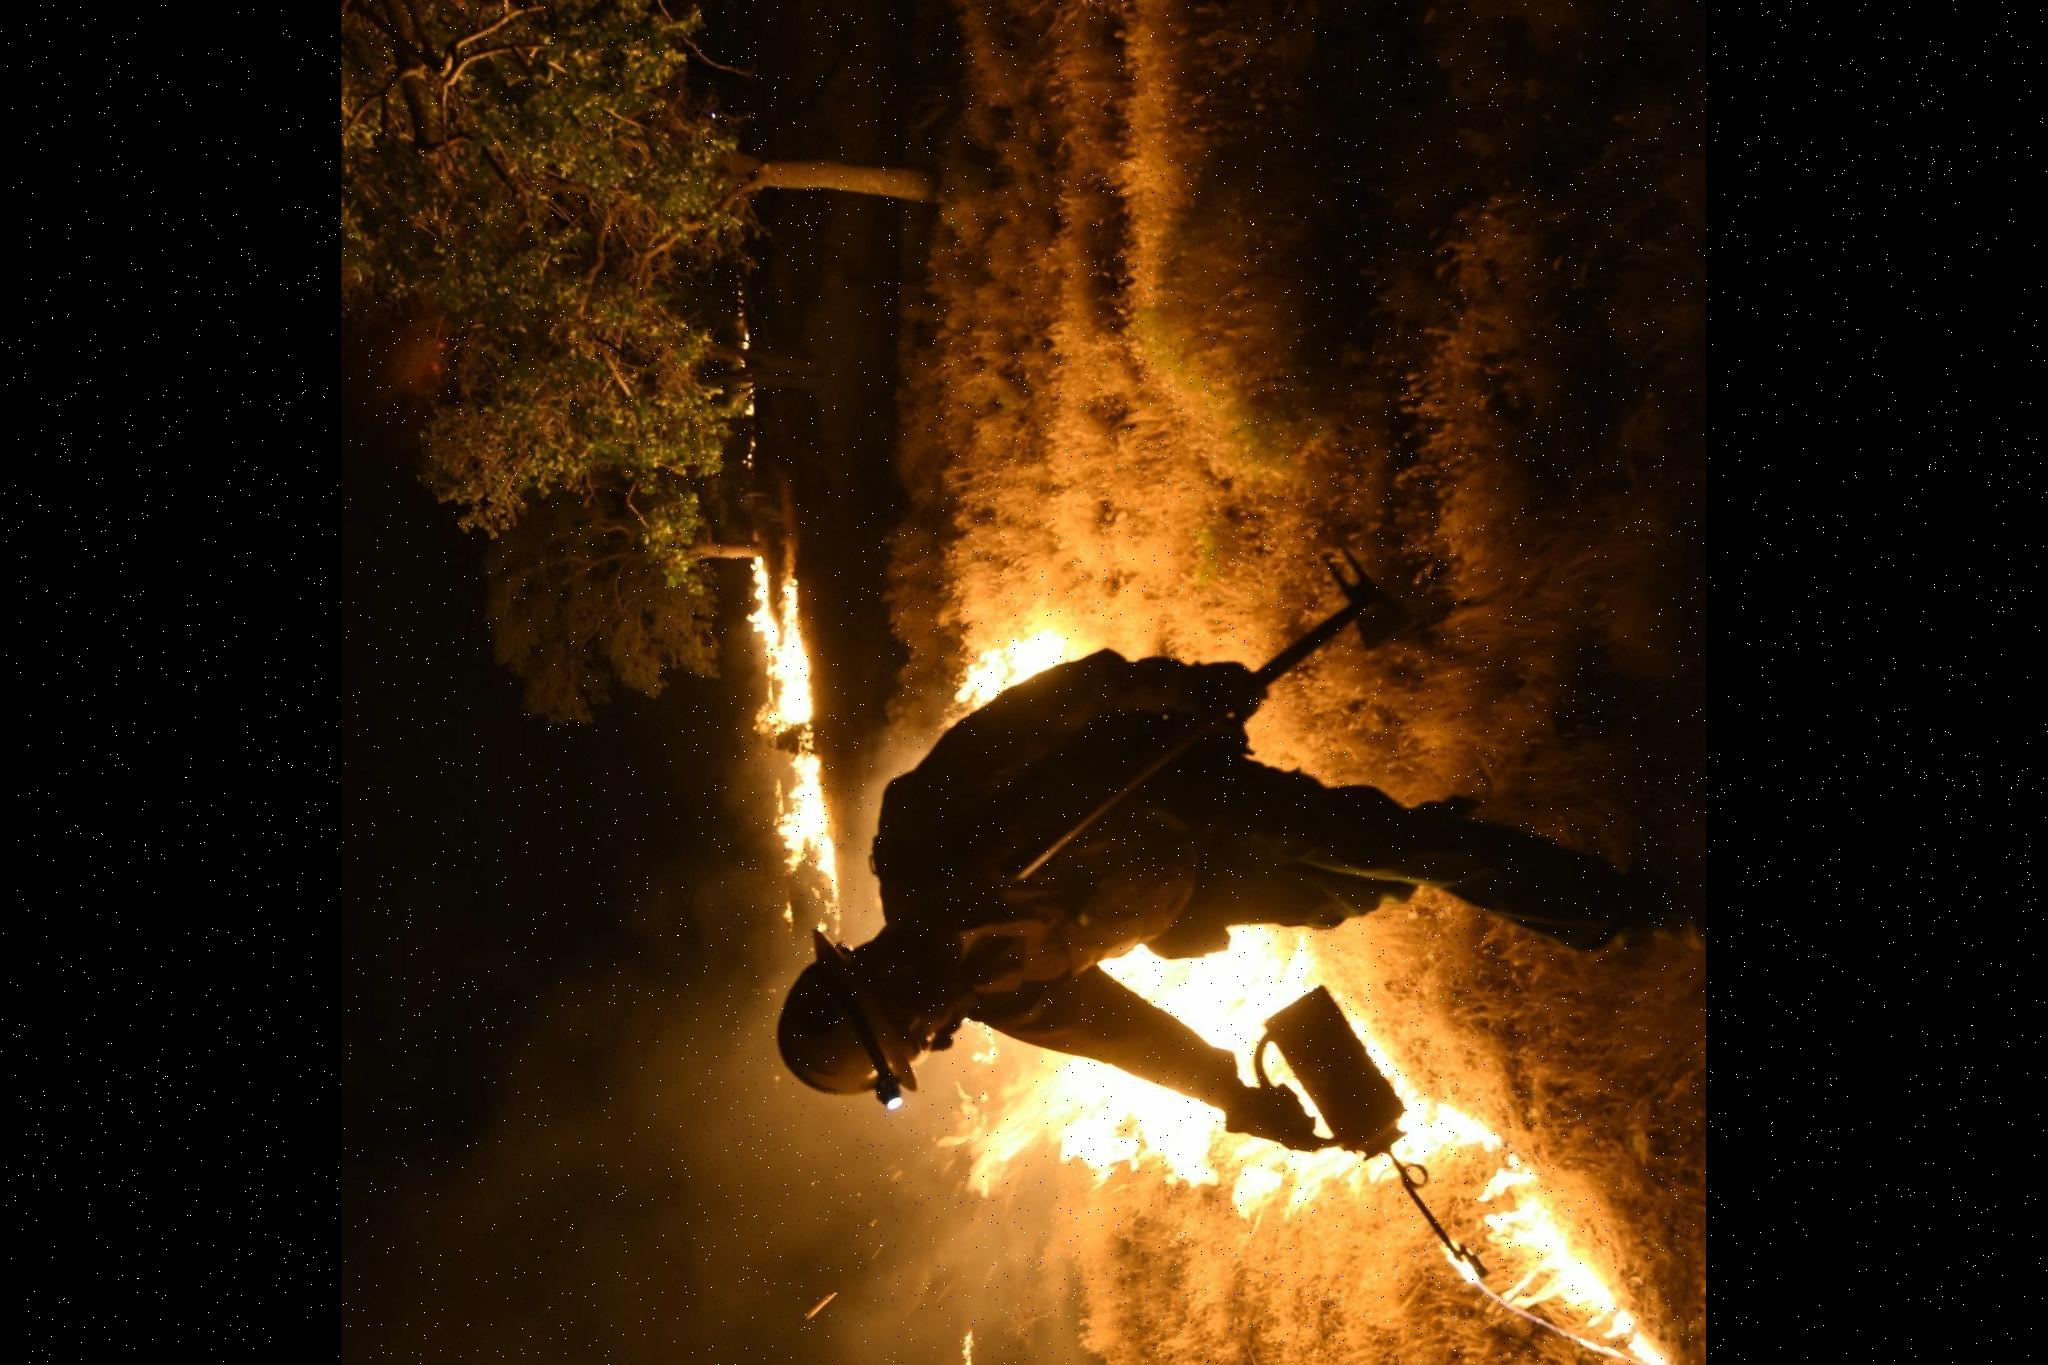fire: (961, 932, 1695, 1365), (711, 456, 877, 926)
